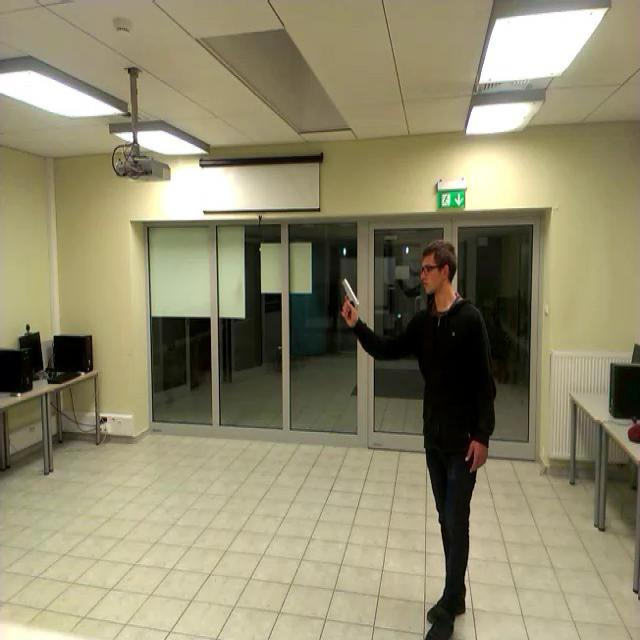weapon: (342, 278, 358, 322)
